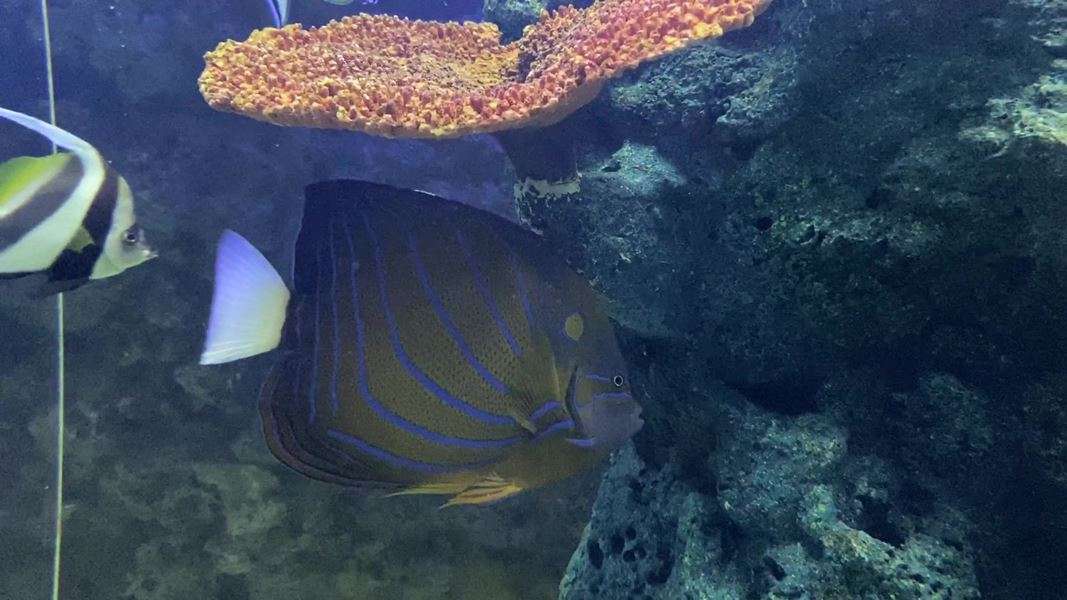Blue ring angelfish: (163, 169, 659, 524)
